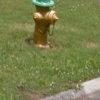Hydrant: (25, 1, 61, 56)
